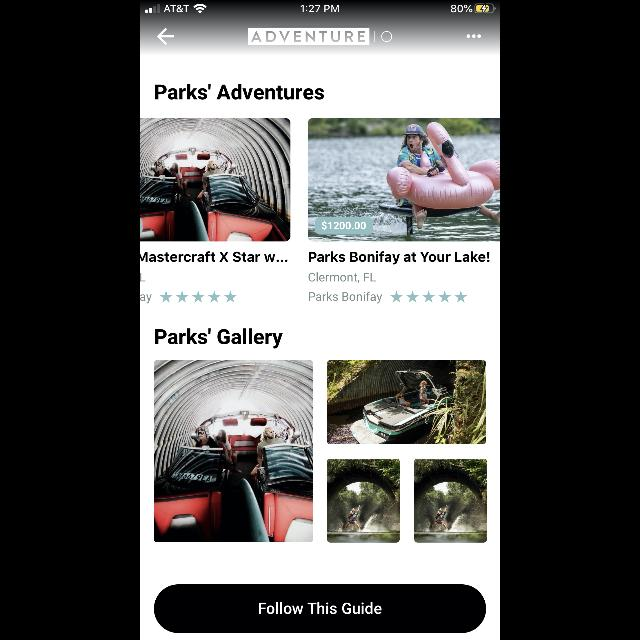icon: (390, 292, 468, 302), (160, 292, 238, 302), (158, 28, 175, 46), (466, 34, 482, 38)
image: (154, 360, 314, 542), (308, 118, 500, 242), (141, 118, 291, 242), (328, 360, 487, 444), (414, 460, 488, 542), (326, 460, 399, 542), (248, 28, 392, 46)
text: (156, 84, 324, 100), (155, 328, 283, 348), (309, 252, 489, 264), (140, 252, 288, 262), (310, 292, 382, 304), (308, 272, 376, 284), (322, 221, 366, 231), (140, 295, 152, 303)
textbutton: (154, 585, 486, 633)
uppertaskbar: (140, 0, 500, 14)
